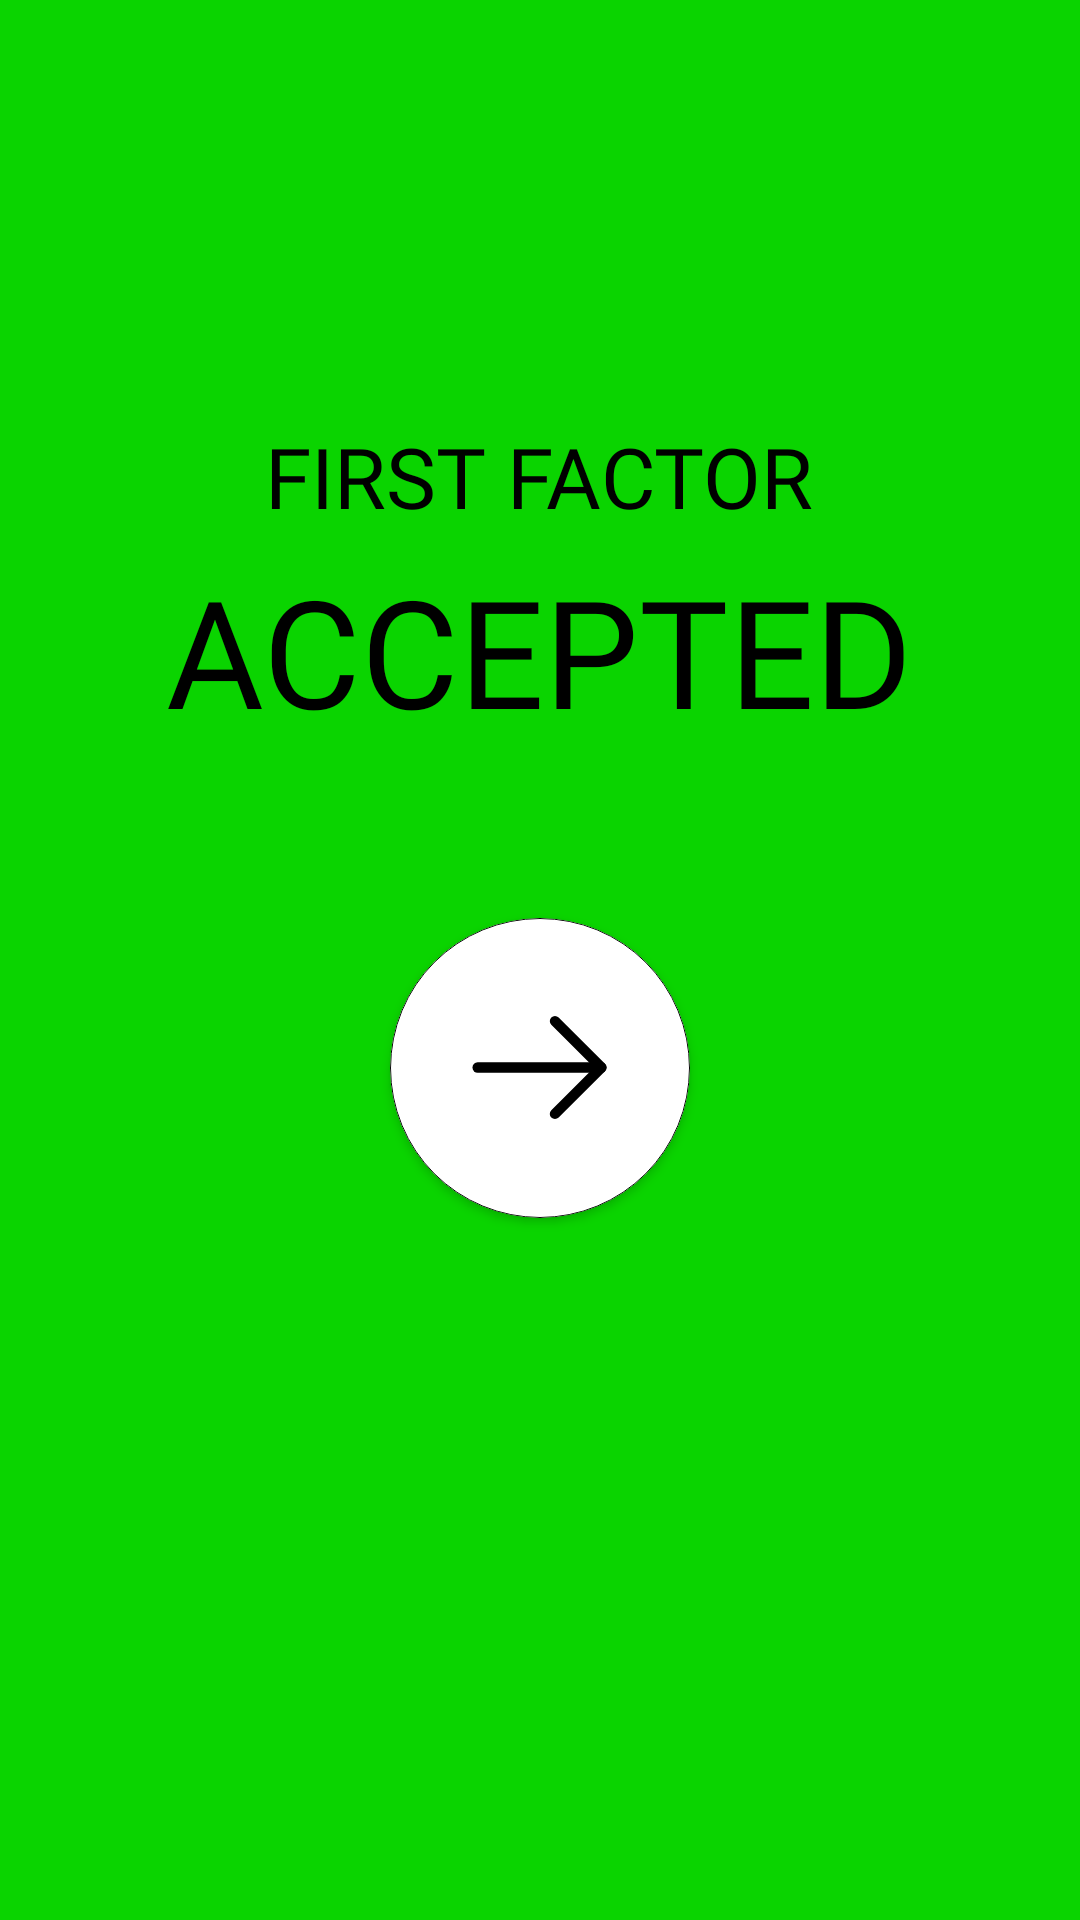

Point at icon controls on the screen. Image size 1080px×1920px, points as (x,y).
right: (539,1067)
